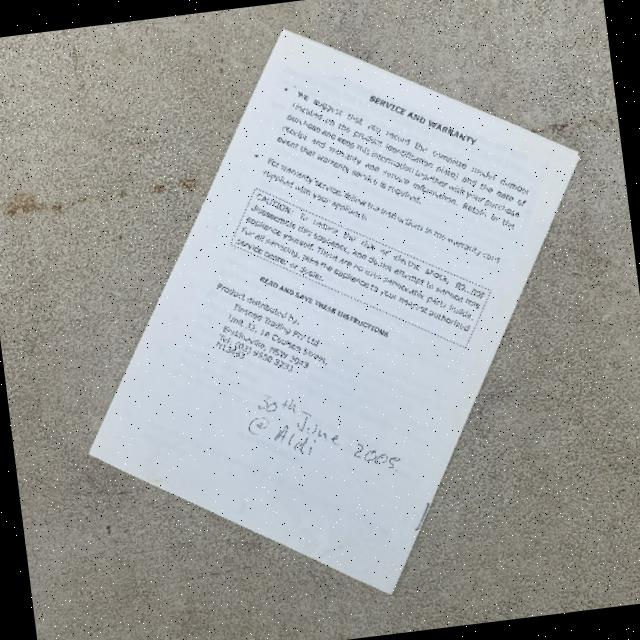paper: (38, 0, 629, 628)
